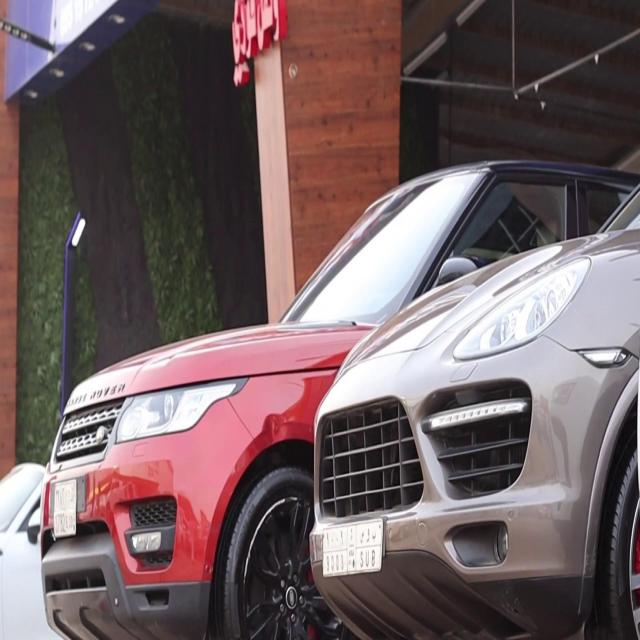license_plate: (316, 510, 385, 580)
